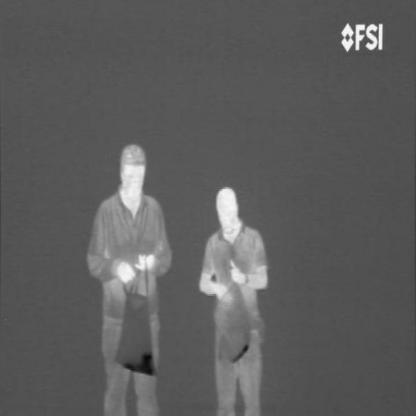weapon: (121, 347, 154, 378)
